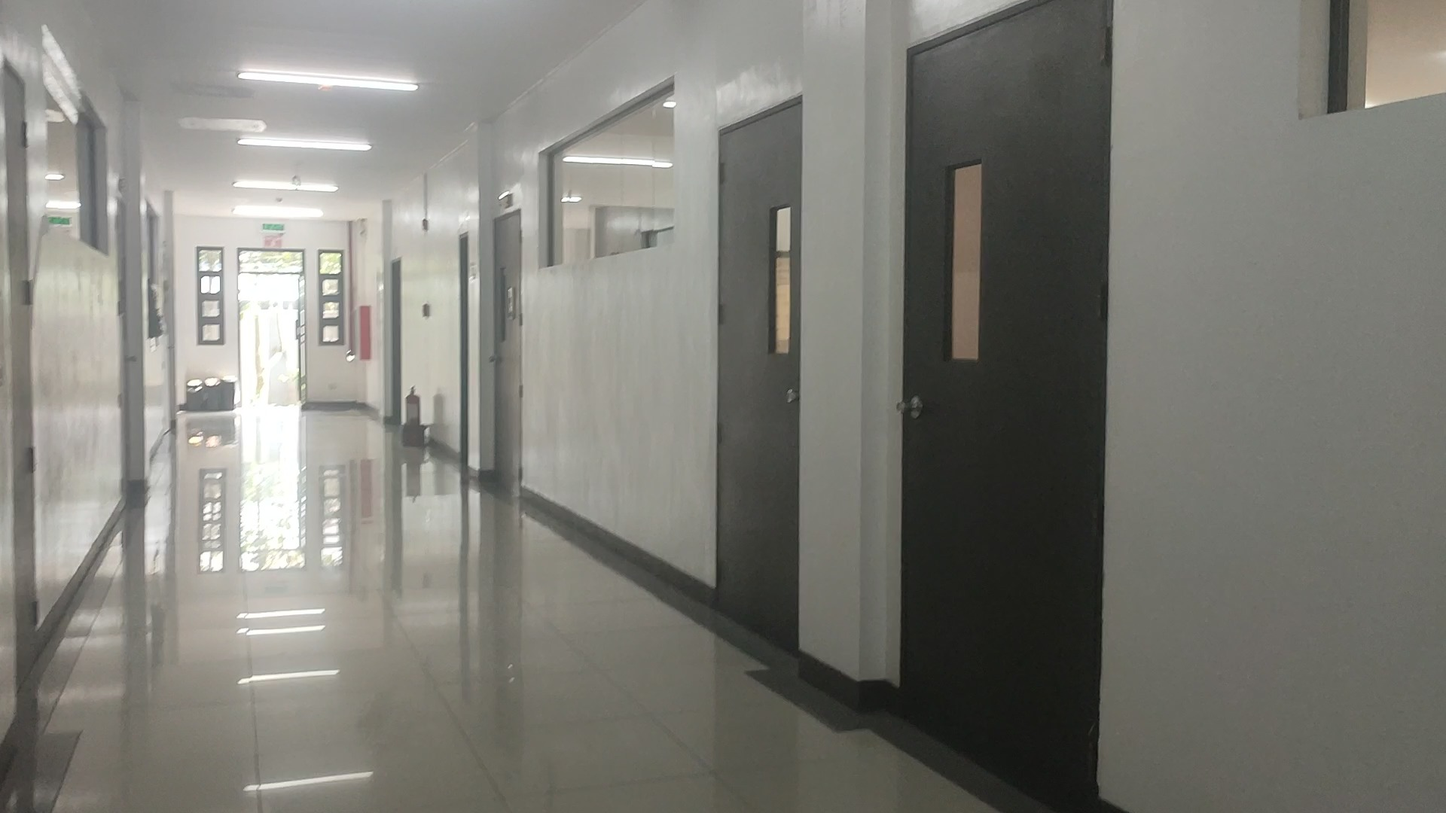door: (898, 0, 1113, 813), (712, 96, 801, 653)
